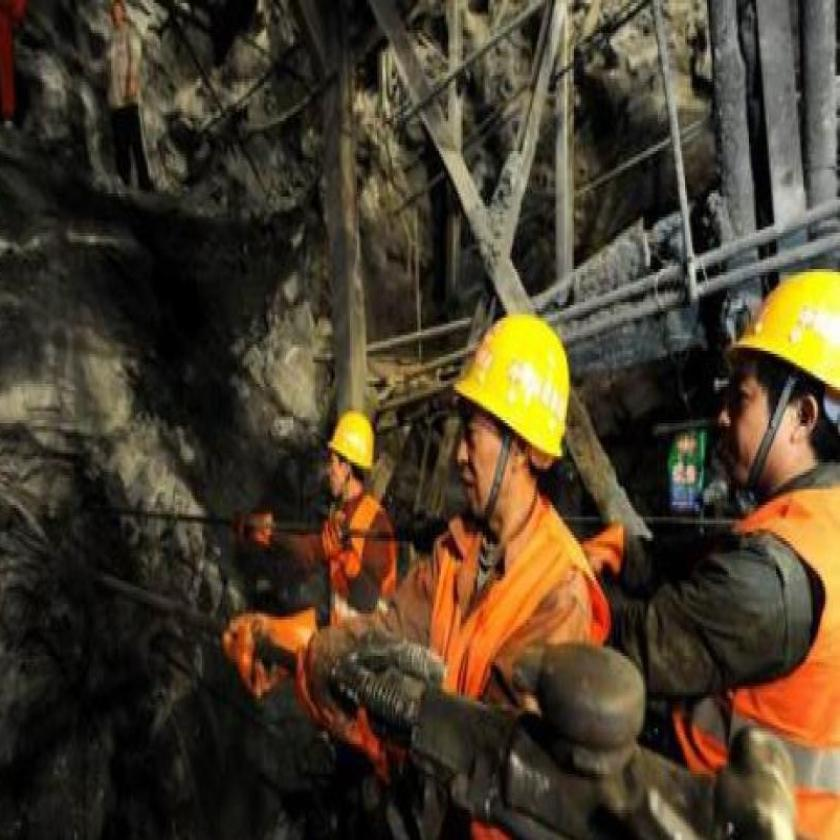Con_casco: (695, 262, 840, 492), (445, 305, 574, 535), (324, 392, 380, 508)
